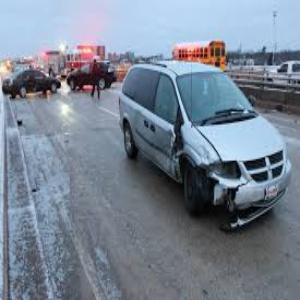bumper: (212, 176, 288, 231)
